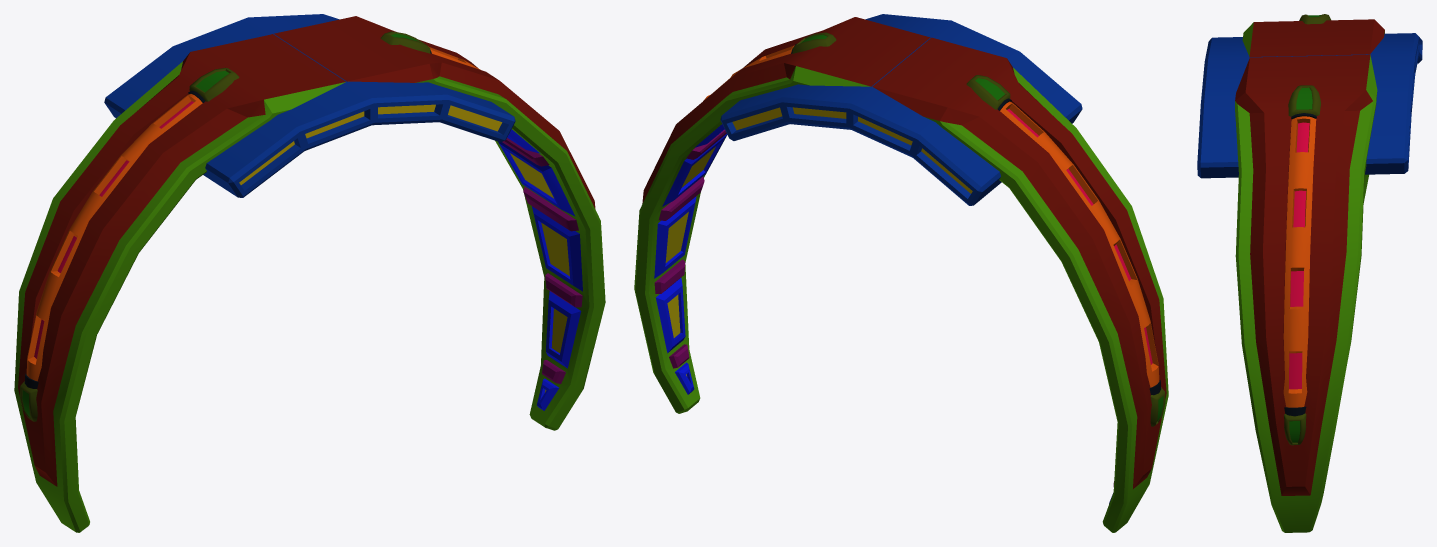
Rendered from OBJ_Support_Plateforme.fbx.
3 renders of one model, left to right at view 1: azimuth 30°, elevation 25°; view 2: azimuth 150°, elevation 25°; view 3: azimuth 270°, elevation 25°, orthographic. The views are drawn at different scales.
Visible parts, largest first — view 1: OBJ_Support_Plateforme; view 2: OBJ_Support_Plateforme; view 3: OBJ_Support_Plateforme.
Boxes of the visible parts, x1,y1,x2,y2 form: OBJ_Support_Plateforme: (14,14,605,532); OBJ_Support_Plateforme: (634,14,1168,532); OBJ_Support_Plateforme: (1197,14,1422,532).
Bounding box in the file's own units: 37.35 × 27.33 × 14.7.
